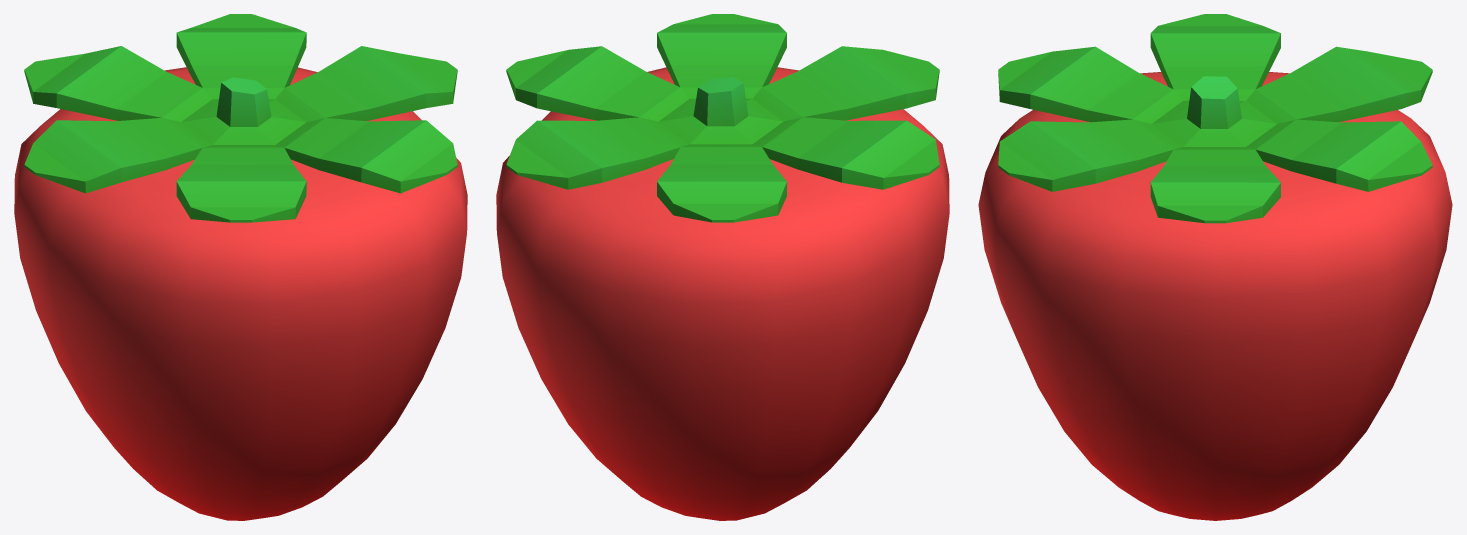
Rendered from strawberry.fbx.
3 renders of one model, left to right at view 1: azimuth 30°, elevation 25°; view 2: azimuth 150°, elevation 25°; view 3: azimuth 270°, elevation 25°, orthographic.
Visible parts, largest first — view 1: strawberry; view 2: strawberry; view 3: strawberry.
Part boxes in pixels (box(x1,y1,x2,y2)): strawberry: box(14, 14, 467, 520); strawberry: box(496, 14, 949, 520); strawberry: box(978, 14, 1452, 520).
Size of the model in its own units: 40.36 by 38.87 by 39.12.
